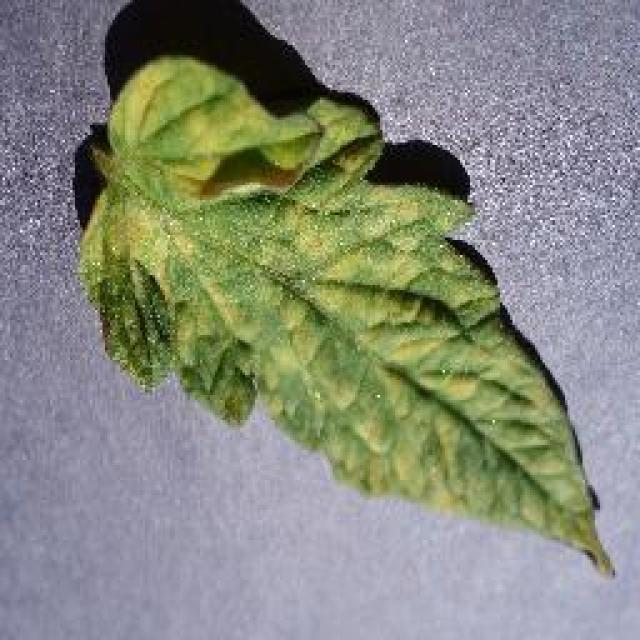Tomato___Leaf_Mold: (78, 55, 608, 570)
